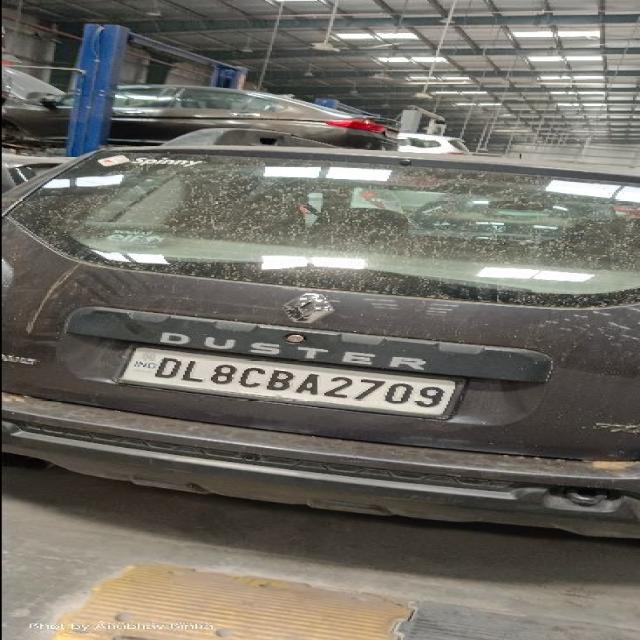license_plate: (112, 344, 467, 420)
